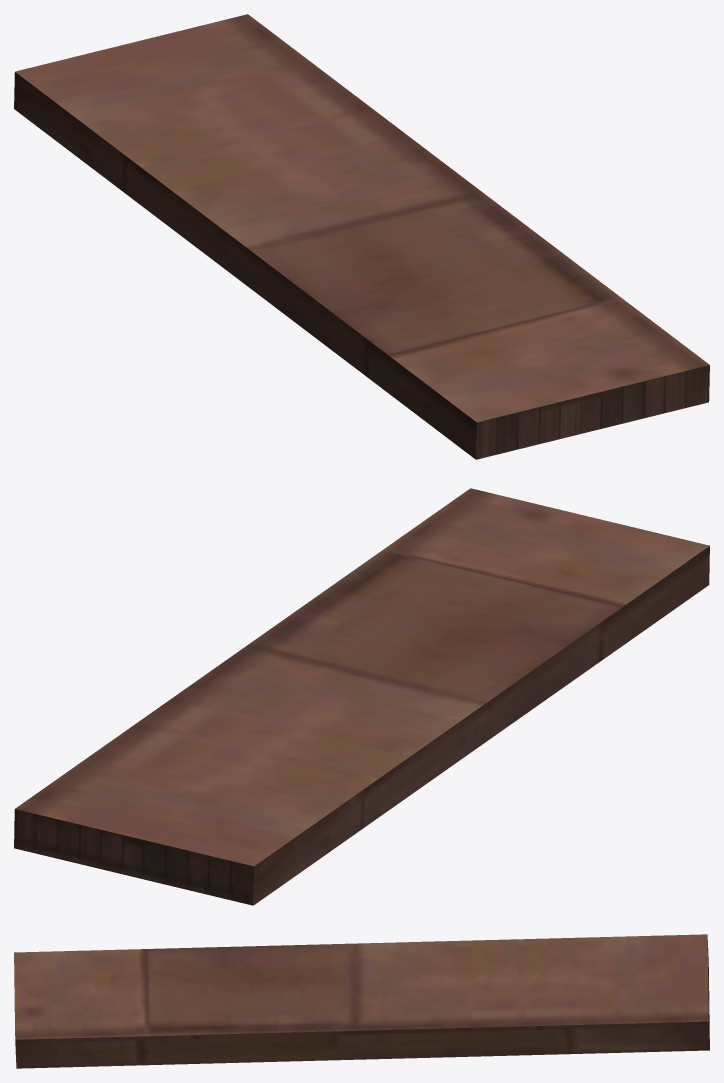
File: woodBlock2 (27).fbx
3 renders of one model, top to bottom at view 1: azimuth 30°, elevation 25°; view 2: azimuth 150°, elevation 25°; view 3: azimuth 270°, elevation 25°, orthographic. The views are drawn at different scales.
Visible parts, largest first — view 1: woodBlock2 (27); view 2: woodBlock2 (27); view 3: woodBlock2 (27).
Part boxes in pixels (left/top/right/bottom): woodBlock2 (27): left=14, top=14, right=709, bottom=459; woodBlock2 (27): left=14, top=488, right=709, bottom=905; woodBlock2 (27): left=14, top=934, right=709, bottom=1068.
Size of the model in its own units: 14.2 by 3.27 by 46.44.
